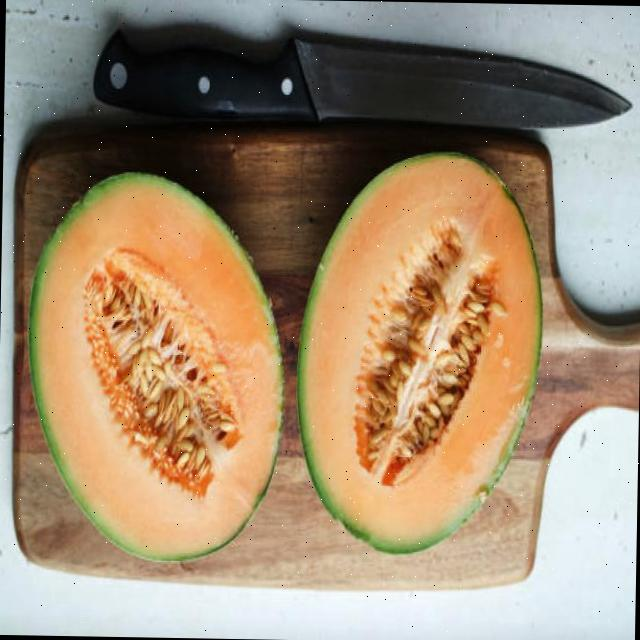Hami Melon: (28, 172, 286, 563), (296, 150, 544, 555)
